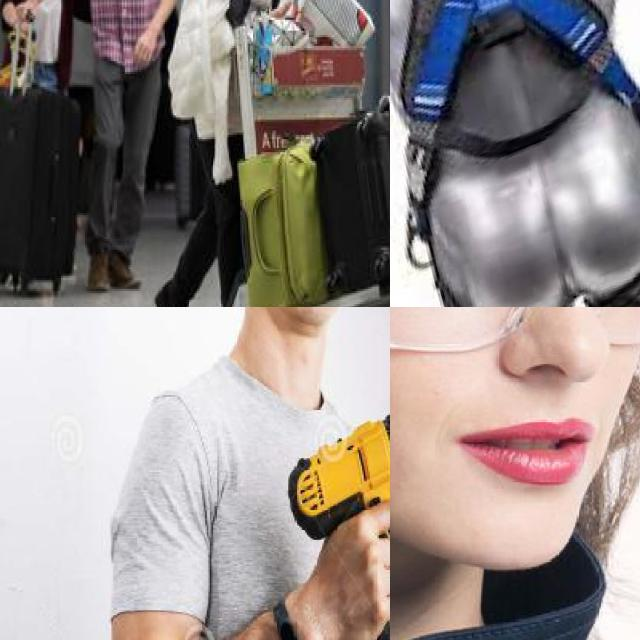Harness: (402, 0, 640, 124)
face_nomask: (392, 307, 640, 512)
hand_noglove: (313, 497, 390, 640)
person: (112, 307, 390, 640), (200, 0, 369, 307), (77, 0, 170, 302)
shoes: (108, 246, 144, 296), (153, 274, 198, 307), (82, 248, 114, 293)
